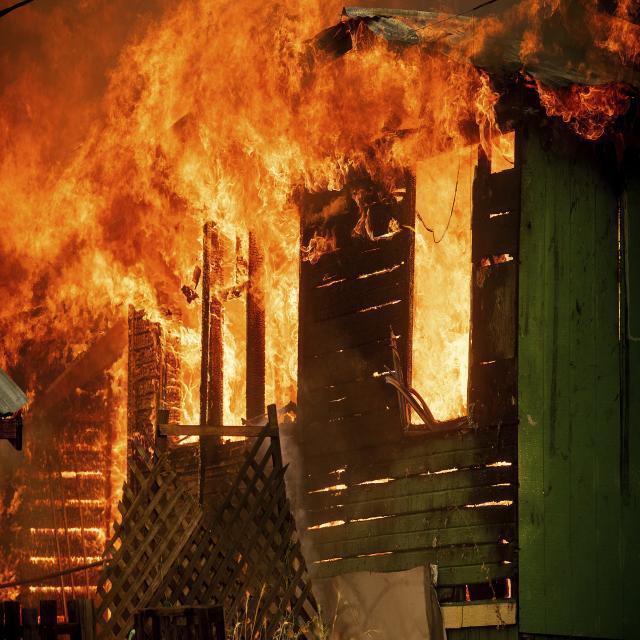Fire: (2, 0, 640, 554)
